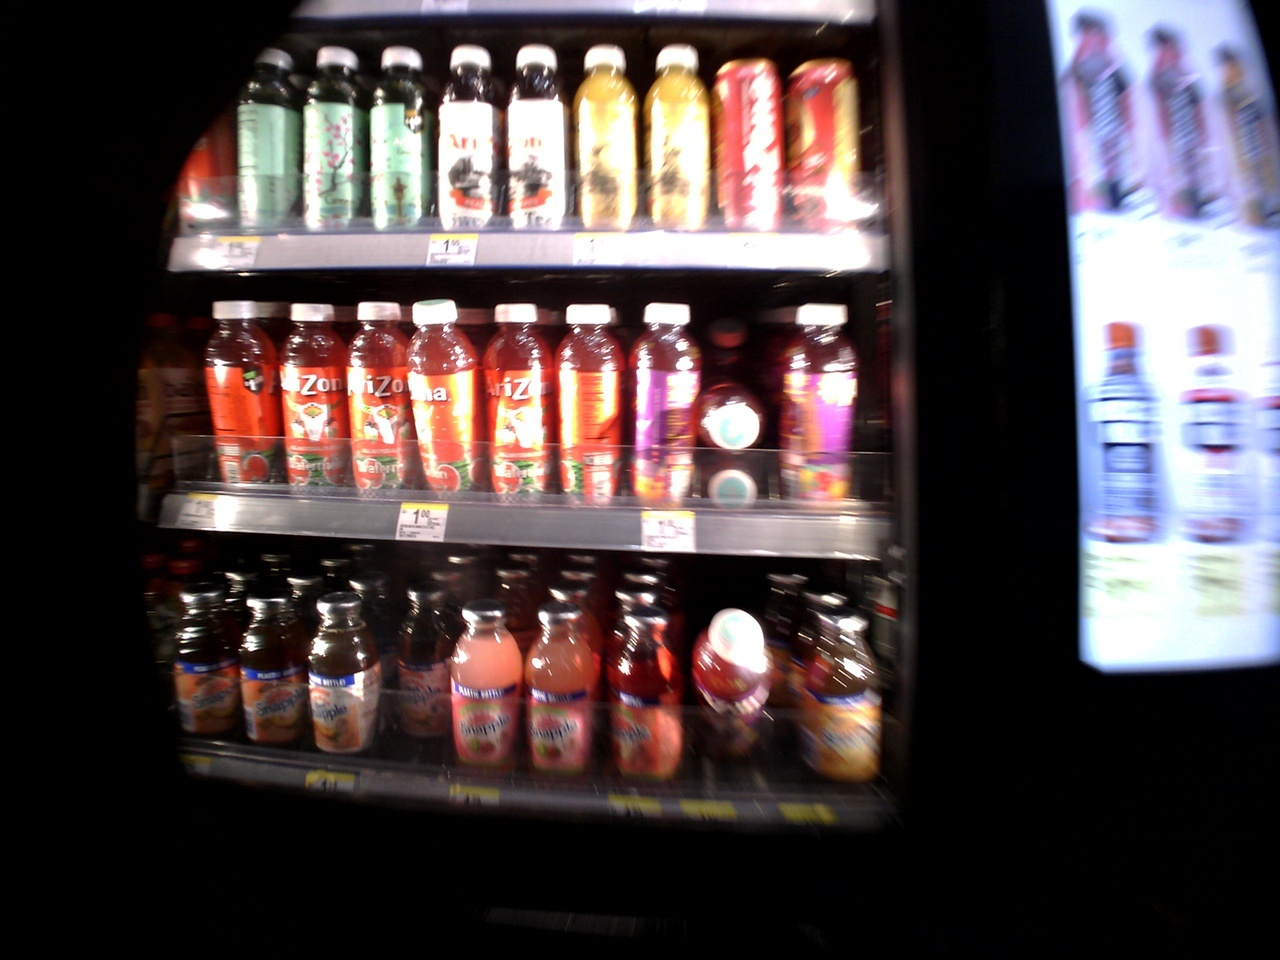shelf: (130, 537, 912, 836), (131, 289, 887, 550), (136, 30, 868, 282)
